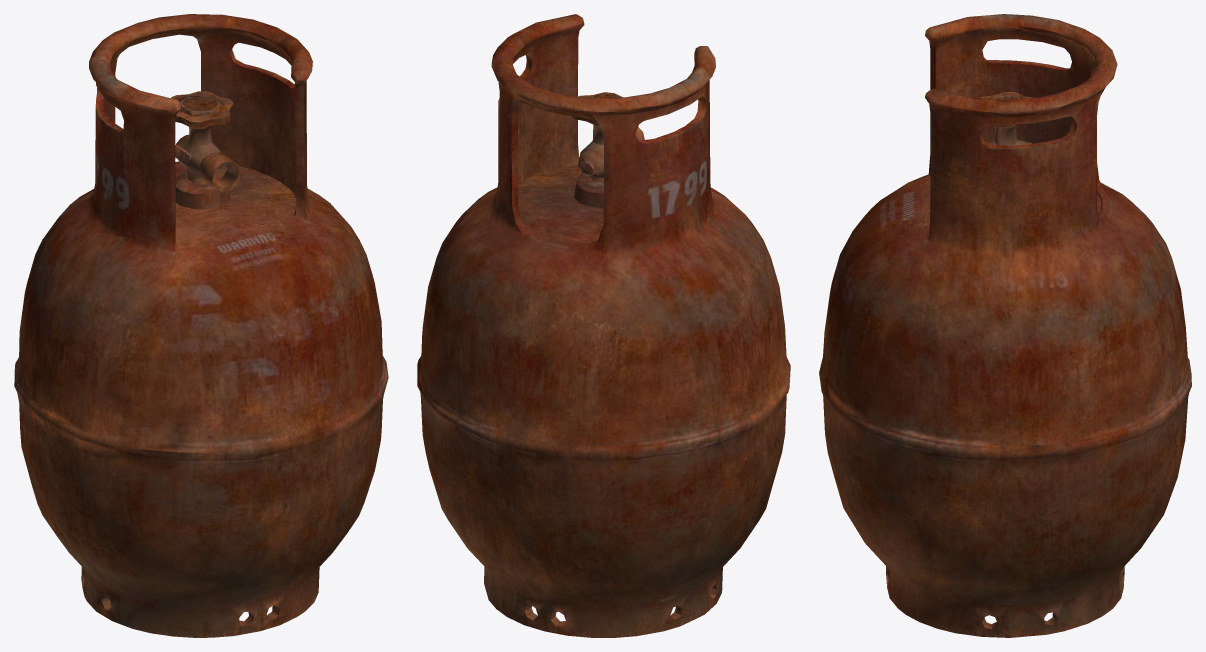
File: small_lpg_tank.glb
The picture shows the model from 3 angles, left to right: view 1: azimuth 30°, elevation 25°; view 2: azimuth 150°, elevation 25°; view 3: azimuth 270°, elevation 25°; orthographic projection.
Visible parts, largest first — view 1: small_lpg_tank; view 2: small_lpg_tank; view 3: small_lpg_tank.
Part boxes in pixels (<box>): small_lpg_tank: <box>14,14,388,637</box>; small_lpg_tank: <box>417,14,790,637</box>; small_lpg_tank: <box>819,14,1191,637</box>.
Size of what is drawn, in the model's own units: 0.4106 by 0.642 by 0.4093.
1 material, 1 textured.
